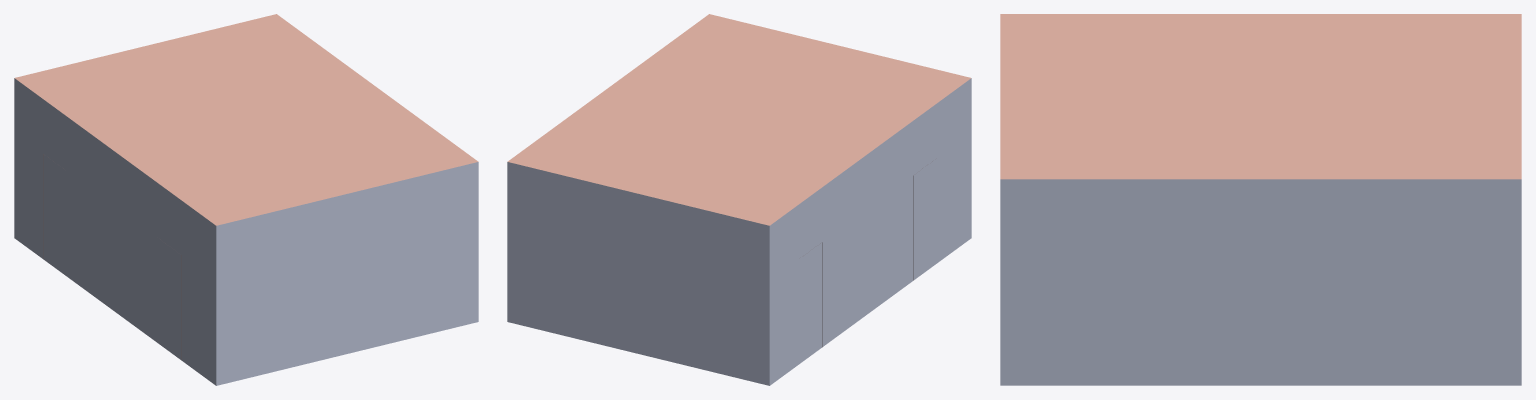
Rendered from Woonkamer_Block.fbx.
The picture shows the model from 3 angles, left to right: view 1: azimuth 30°, elevation 25°; view 2: azimuth 150°, elevation 25°; view 3: azimuth 270°, elevation 25°; orthographic projection. The views are drawn at different scales.
Visible parts, largest first — view 1: SM_Chair01_LOD1; view 2: SM_Chair01_LOD1; view 3: SM_Chair01_LOD1.
Part boxes in pixels (x1=…): SM_Chair01_LOD1: x1=14, y1=14, x2=478, y2=385; SM_Chair01_LOD1: x1=507, y1=14, x2=971, y2=385; SM_Chair01_LOD1: x1=1000, y1=14, x2=1521, y2=385.
Size of the model in its own units: 601 by 350 by 800.
